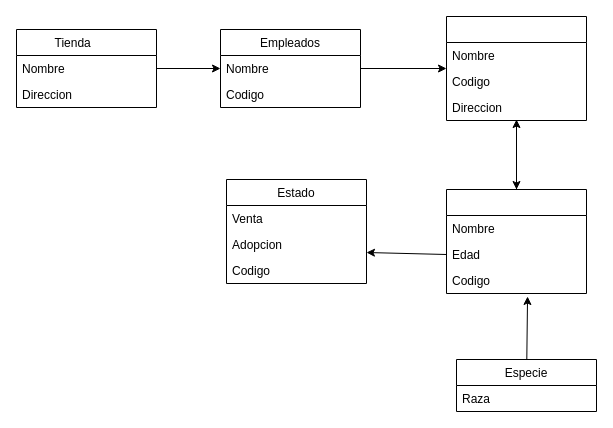
Some shapes in this 613 by 428 pixel diagram are drawn without their labels. The box of each missing label's shape, as (x1, y1, x2, y2) in pixels:
Cliente: (446, 16, 586, 120)
Mascota: (446, 188, 586, 294)
